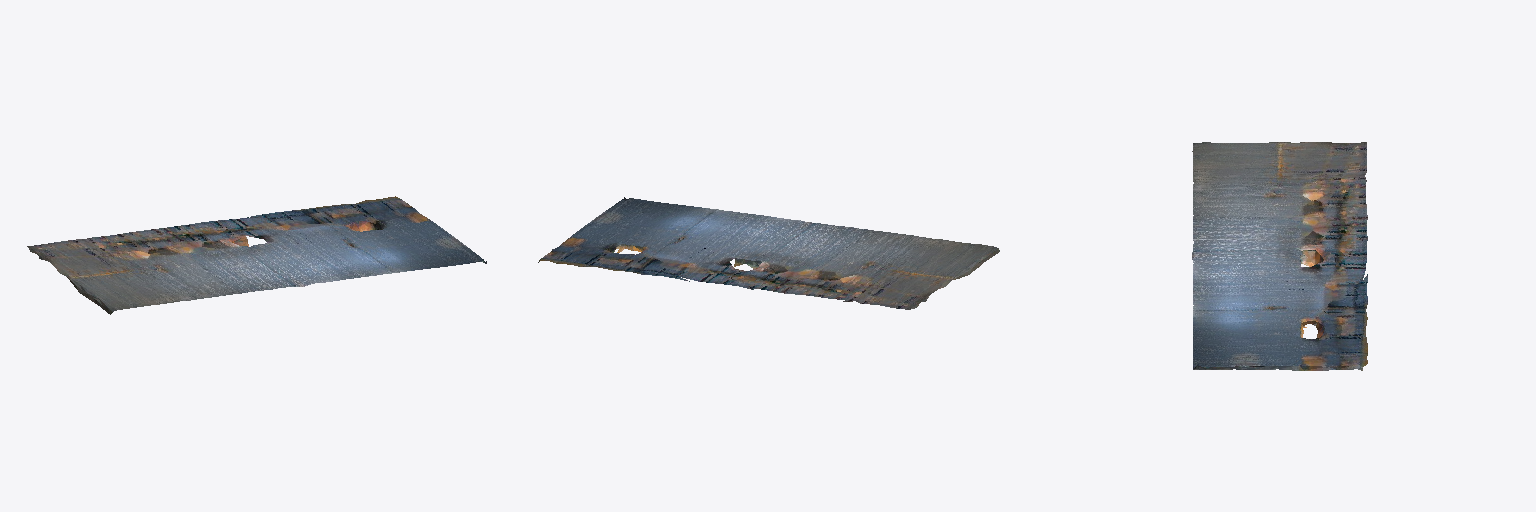
3 renders of one model, left to right at view 1: azimuth 30°, elevation 25°; view 2: azimuth 150°, elevation 25°; view 3: azimuth 270°, elevation 25°, orthographic.
Parts seen in each view (by area): view 1: 1-dynamic_-_BLK2GO-[number redacted]-Scan_080_27_0; view 2: 1-dynamic_-_BLK2GO-[number redacted]-Scan_080_27_0; view 3: 1-dynamic_-_BLK2GO-[number redacted]-Scan_080_27_0.
Boxes of the visible parts, x1=… form: 1-dynamic_-_BLK2GO-[number redacted]-Scan_080_27_0: x1=27, y1=196, x2=486, y2=314; 1-dynamic_-_BLK2GO-[number redacted]-Scan_080_27_0: x1=538, y1=197, x2=999, y2=309; 1-dynamic_-_BLK2GO-[number redacted]-Scan_080_27_0: x1=1192, y1=142, x2=1367, y2=370.
Bounding box in the file's own units: 5.01 × 0.5979 × 2.04.
1 materials, 1 textured.